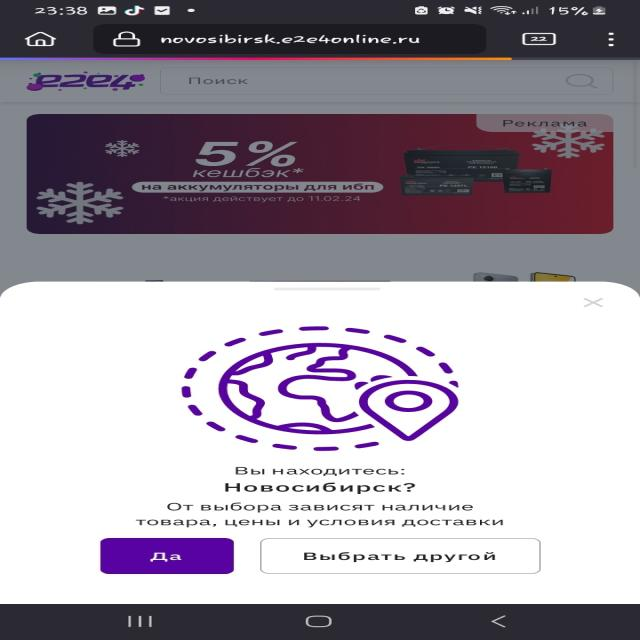button: (262, 537, 544, 575), (97, 537, 235, 574), (576, 292, 611, 312)
site: (0, 283, 640, 603)
